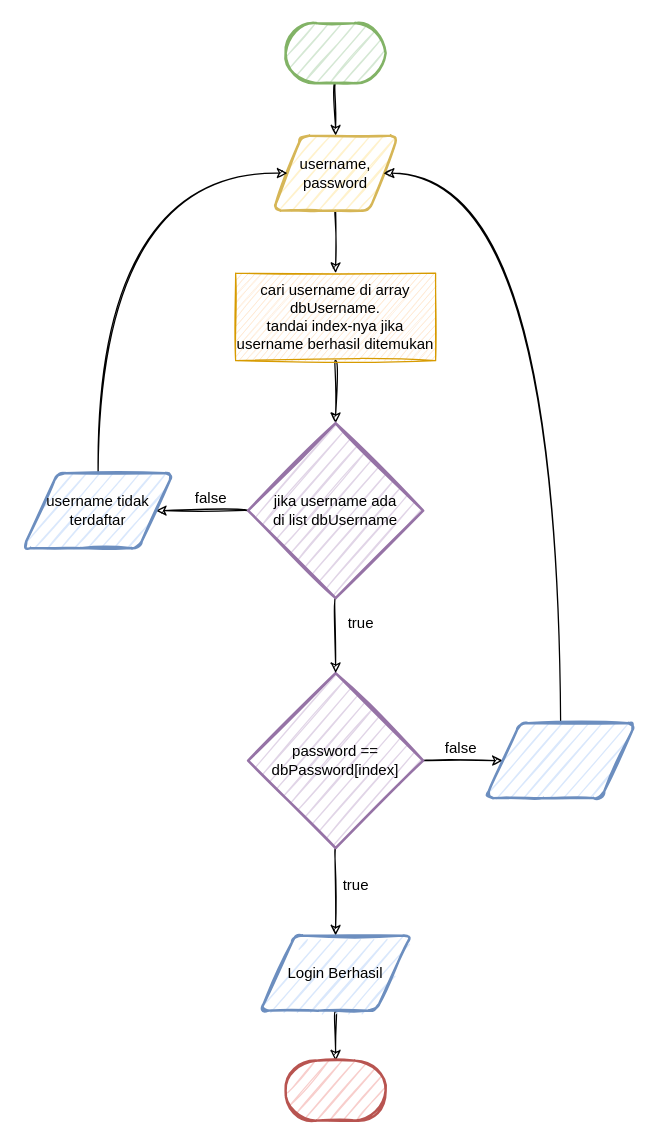
Image size: 658x1143. Some labels were removed from this diagram. Here are the shapes that lost their labels. From the top down, the centre of each, then its label:
(x=335, y=52): start
(x=560, y=760): salah password
(x=335, y=1090): end
